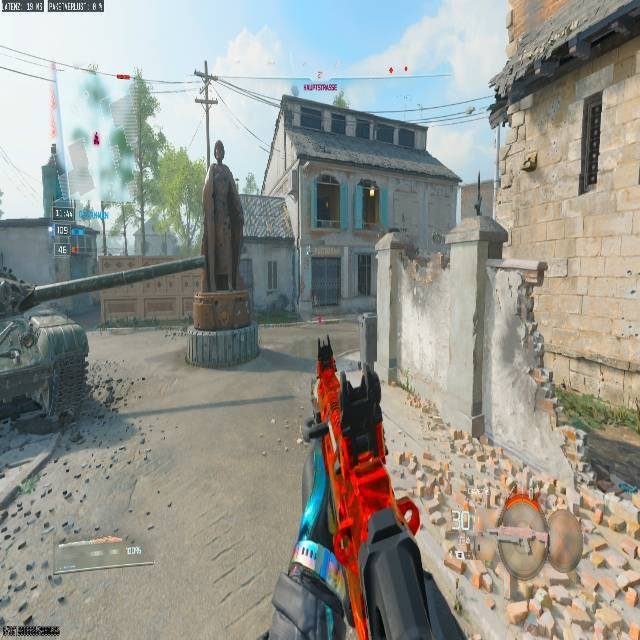head: (496, 498, 551, 577)
